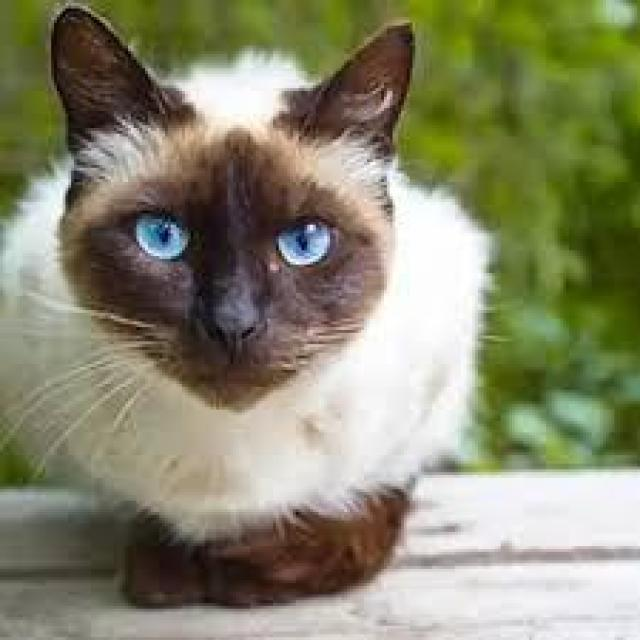cat: (4, 0, 486, 564)
